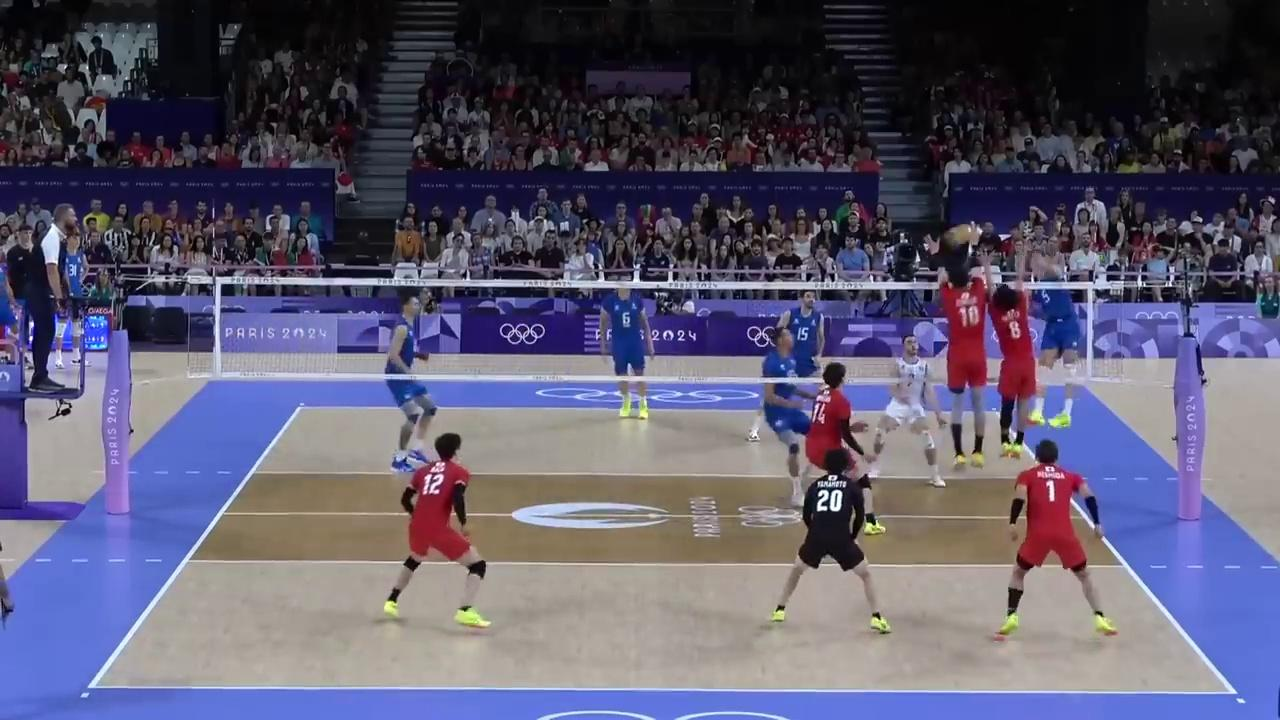ball: (943, 225, 974, 245)
